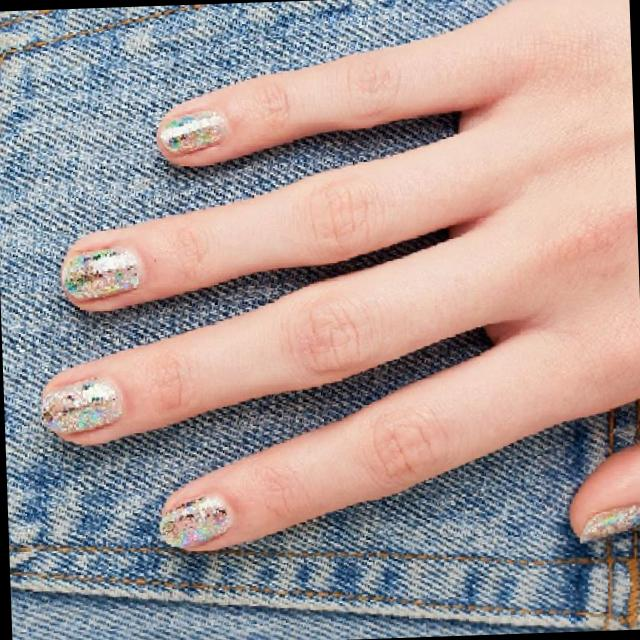Nail: (43, 378, 123, 434), (60, 247, 139, 300), (159, 494, 228, 548), (158, 110, 226, 154), (577, 504, 640, 541)
